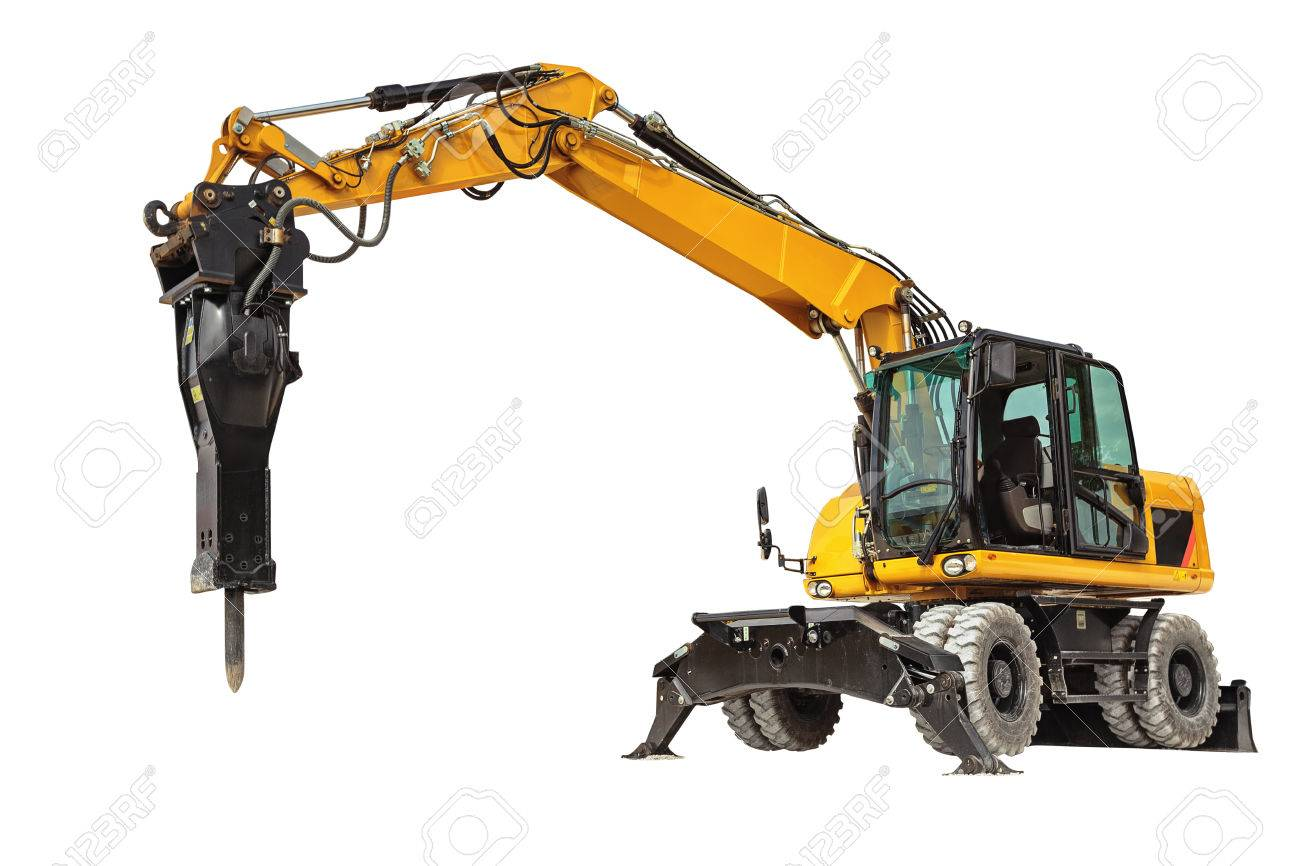backhoe: (140, 60, 1291, 796)
